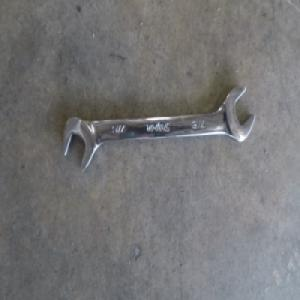Wrench: (62, 84, 254, 175)
